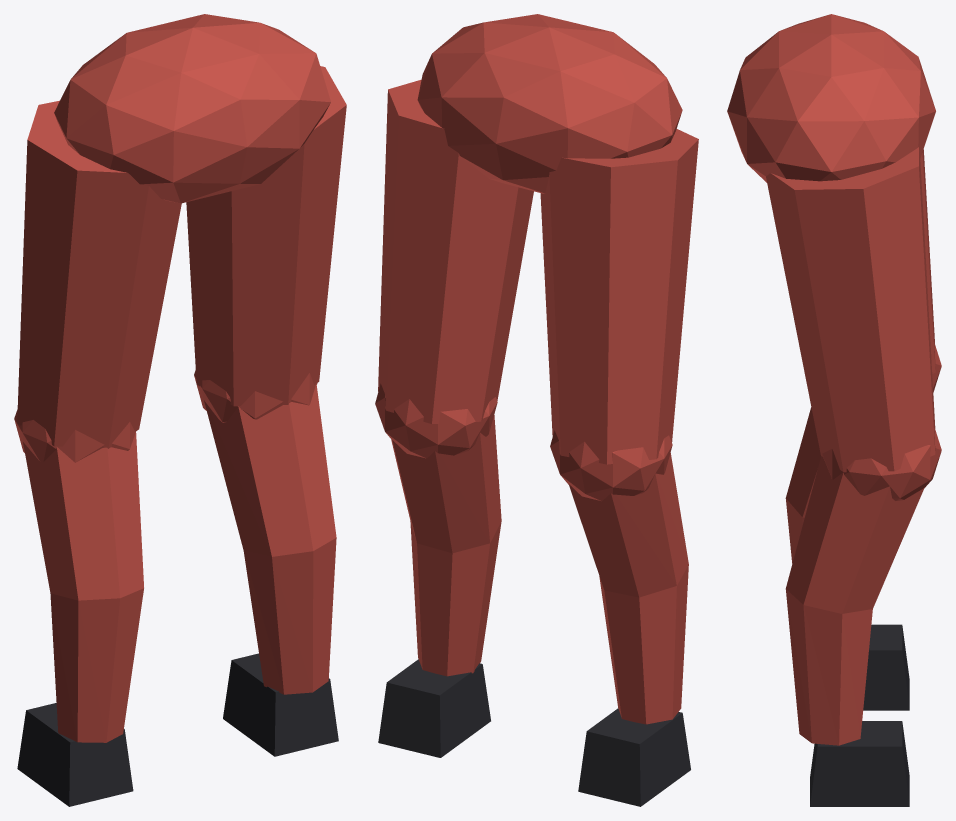
Rendered from SatanLegsStanding.obj.
3 views of the same model, side by side, from view 1: azimuth 30°, elevation 25°; view 2: azimuth 150°, elevation 25°; view 3: azimuth 270°, elevation 25° (orthographic). The views are drawn at different scales.
Parts seen in each view (by area): view 1: SatanLegsStanding; view 2: SatanLegsStanding; view 3: SatanLegsStanding.
Part boxes in pixels (x1,y1,x2,y2): SatanLegsStanding: (14, 14, 346, 806); SatanLegsStanding: (375, 14, 698, 806); SatanLegsStanding: (727, 14, 941, 806).
Bounding box in the file's own units: 0.464 × 1.1 × 0.3015.
Materials: 1 (1 with a texture image).
